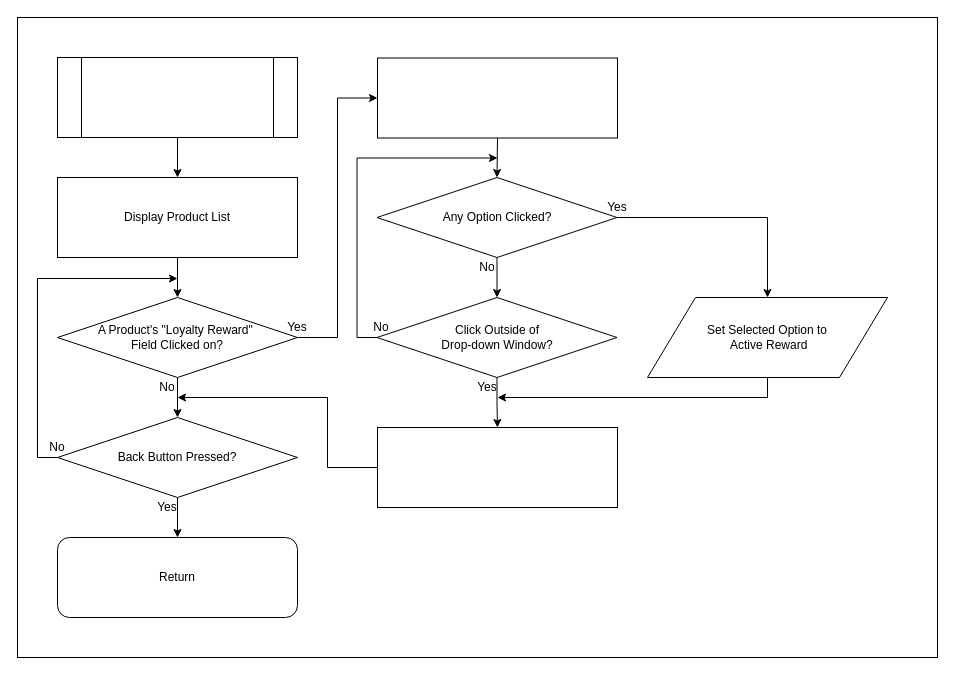
The diagram is 955 pixels wide and 675 high, and some of its shapes have lost their labels. The shapes that lost their labels are listed below. From the top down, each one's centre as x and y in pixels, then its label:
At pixel 177 97: "Loyalty Card".
At pixel 497 97: "Open Drop-down Window of Loyalty Reward Types".
At pixel 497 467: "Close Drop-down Window of Loyalty Reward Types".
